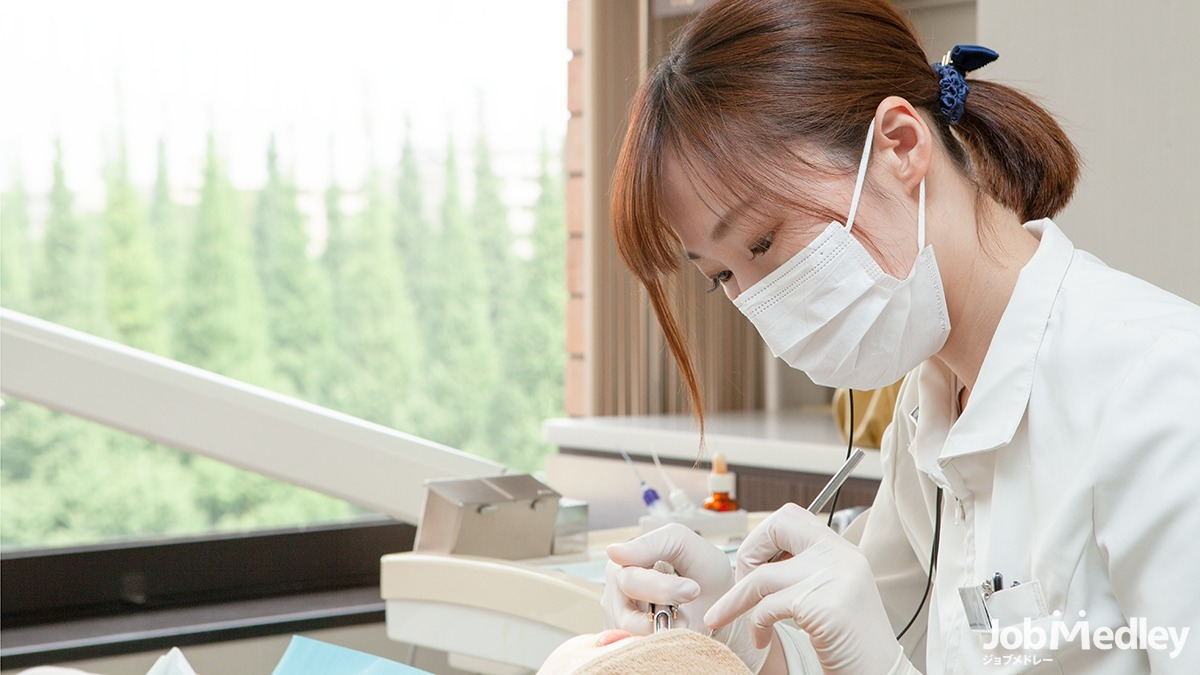mask: (739, 232, 952, 395)
